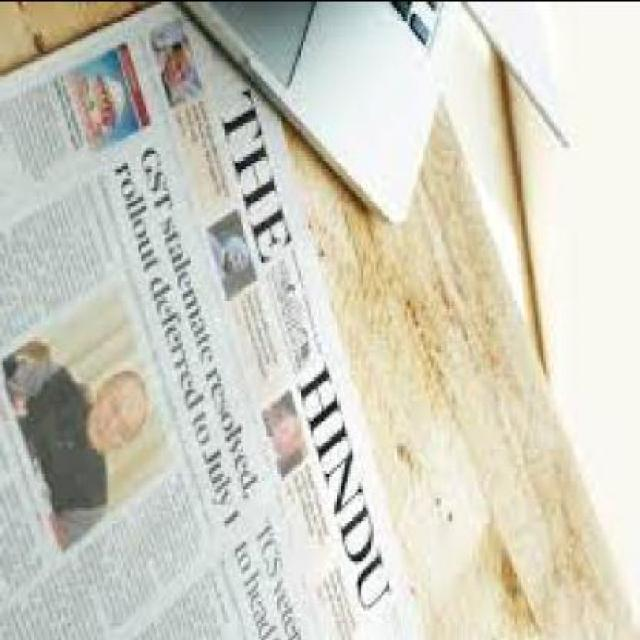METAL: (181, 0, 462, 226)
PAPER: (1, 4, 395, 639)
